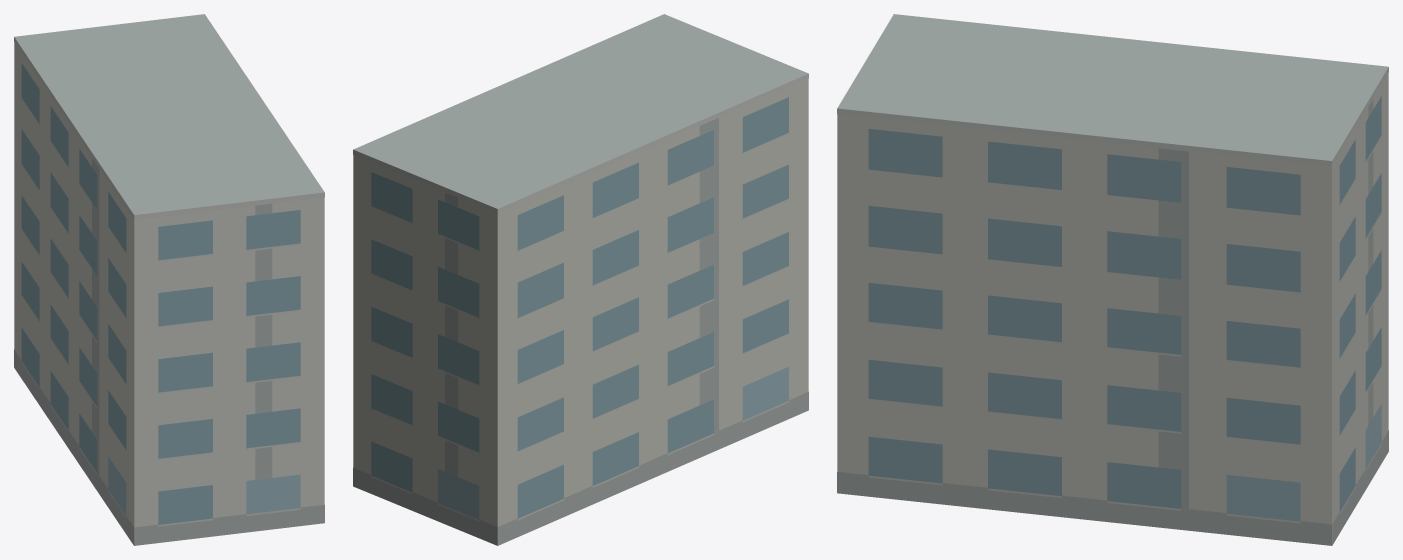
The model's file is survey-upis-32800355.glb.
3 renders of one model, left to right at view 1: azimuth 30°, elevation 25°; view 2: azimuth 150°, elevation 25°; view 3: azimuth 270°, elevation 25°, orthographic. The views are drawn at different scales.
Visible parts, largest first — view 1: survey-upis-32800355.tmp; view 2: survey-upis-32800355.tmp; view 3: survey-upis-32800355.tmp.
Boxes of the visible parts, left/top/right/bottom form: survey-upis-32800355.tmp: left=14, top=14, right=324, bottom=545; survey-upis-32800355.tmp: left=353, top=14, right=808, bottom=545; survey-upis-32800355.tmp: left=837, top=14, right=1388, bottom=545.
Size of the model in its own units: 13.37 by 16.3 by 21.19.
